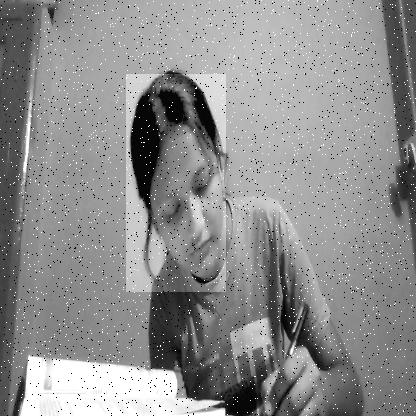Distracted: (126, 74, 226, 292)
